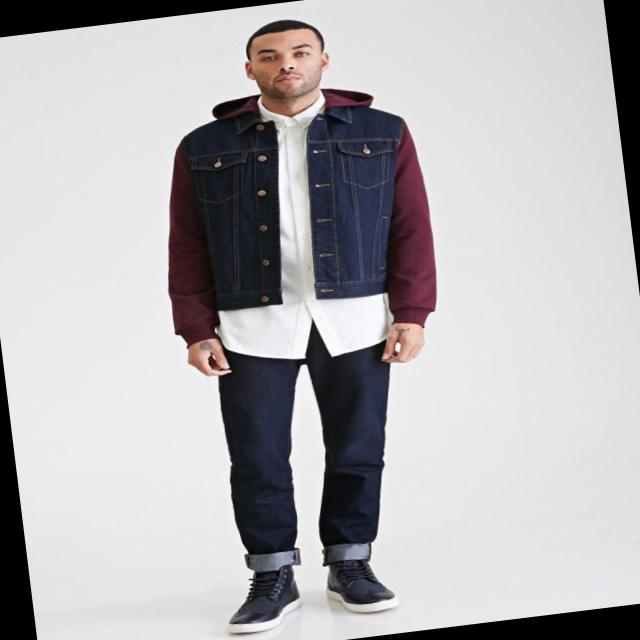Jacket: (144, 87, 448, 359)
